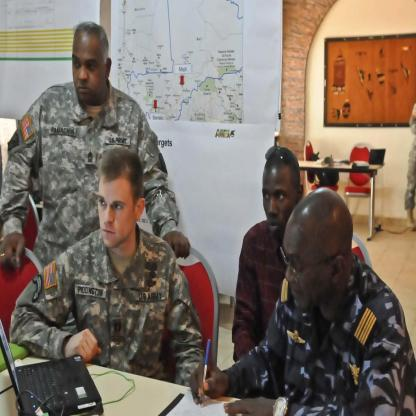board: (6, 324, 93, 415)
